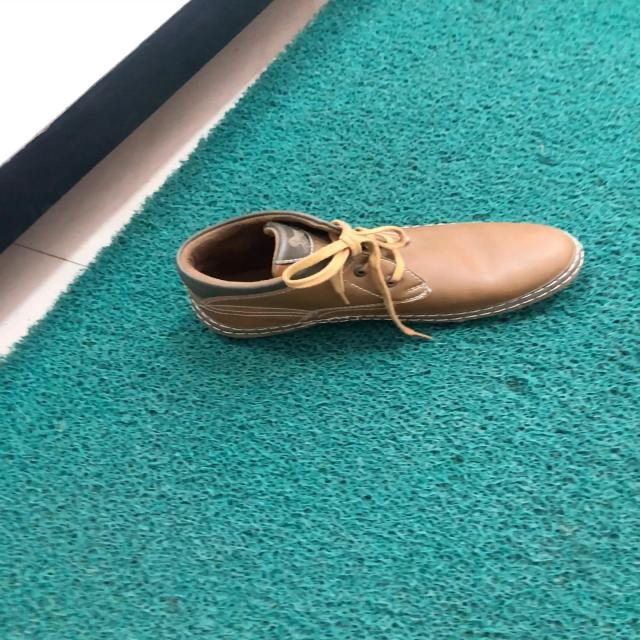shoe: (177, 212, 585, 344)
